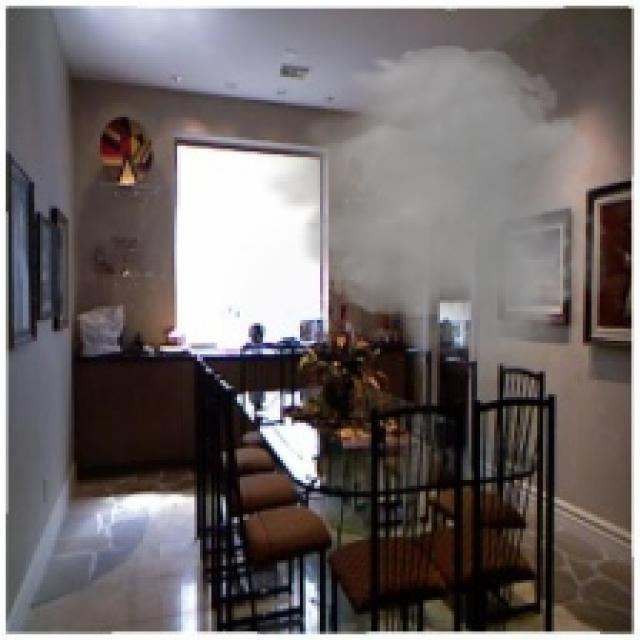smoke: (257, 37, 623, 383)
